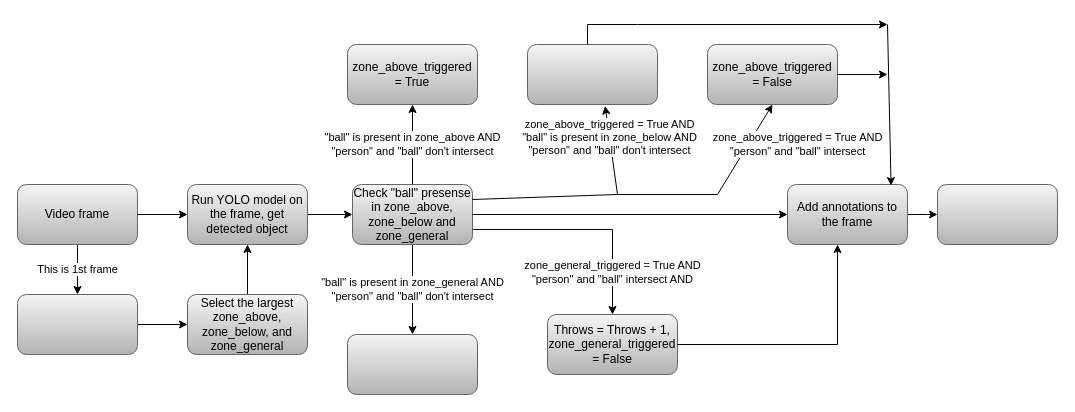
The diagram is 1075 pixels wide and 412 high, and some of its shapes have lost their labels. Here are the shapes that lost their labels. From the top down, the centre of each, then its label:
(x=592, y=74): Score = Score + 1, zone_above_triggered = False
(x=997, y=214): Return annotated frame, current score and number of throws
(x=77, y=324): Define 3 zones for each "basket" object
(x=412, y=364): zone_general_triggered = True
